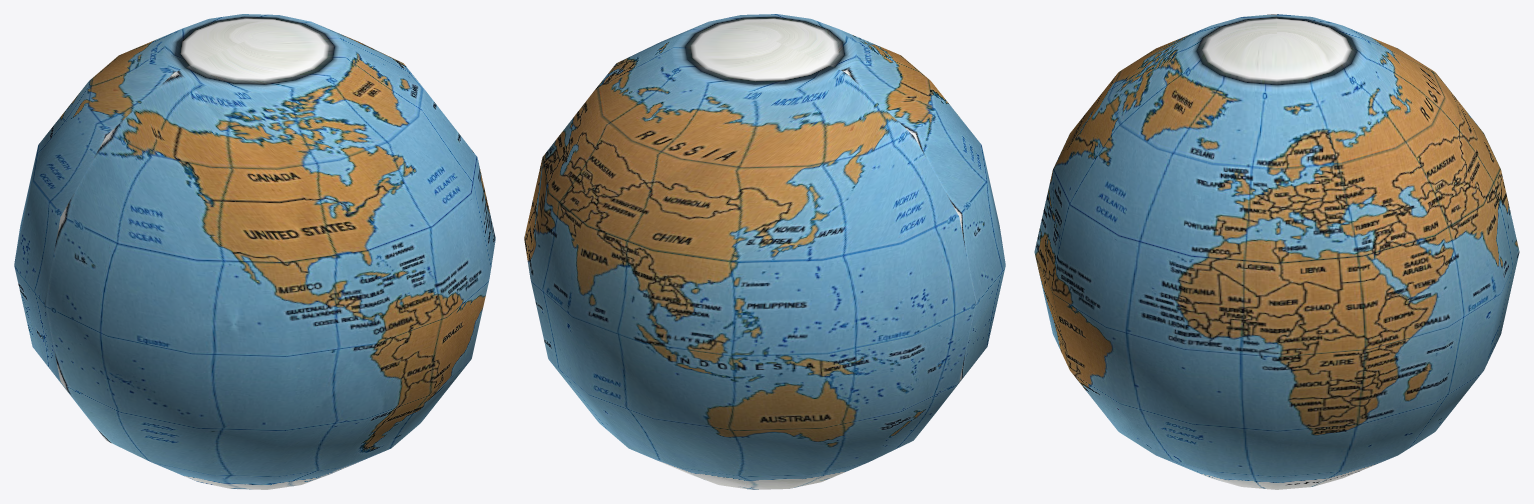
Rendered from earth.glb.
3 renders of one model, left to right at view 1: azimuth 30°, elevation 25°; view 2: azimuth 150°, elevation 25°; view 3: azimuth 270°, elevation 25°, orthographic.
Visible parts, largest first — view 1: Sphere; view 2: Sphere; view 3: Sphere.
Boxes of the visible parts, <box> form: Sphere: <box>14,14,495,489</box>; Sphere: <box>524,14,1005,489</box>; Sphere: <box>1034,14,1519,489</box>.
Bounding box in the file's own units: 0.2 × 0.1957 × 0.2.
1 material, 1 textured.
